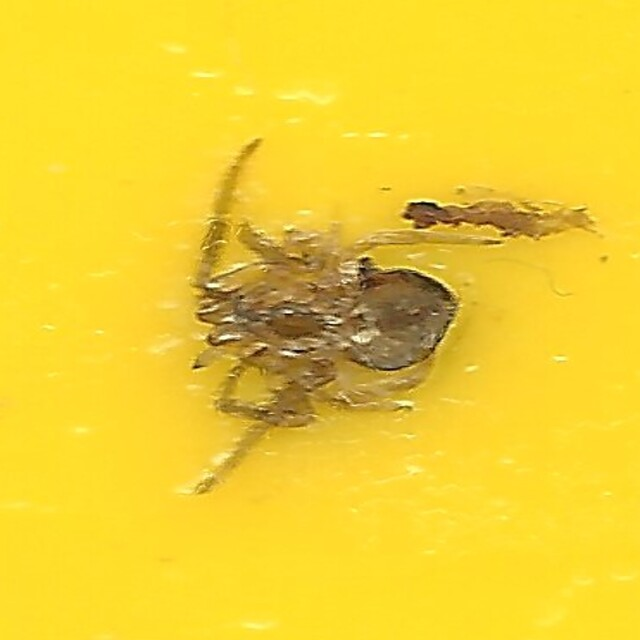Araneae: (173, 131, 467, 509)
